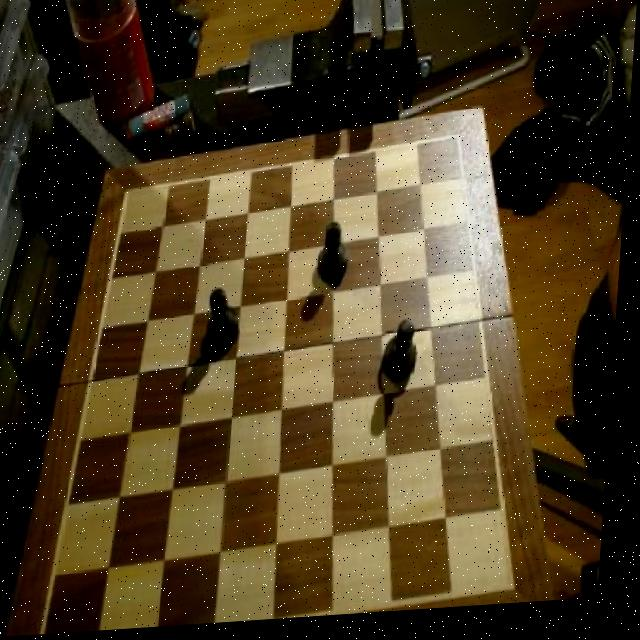black-knight: (384, 324, 426, 397), (208, 288, 247, 359), (320, 225, 356, 294)
